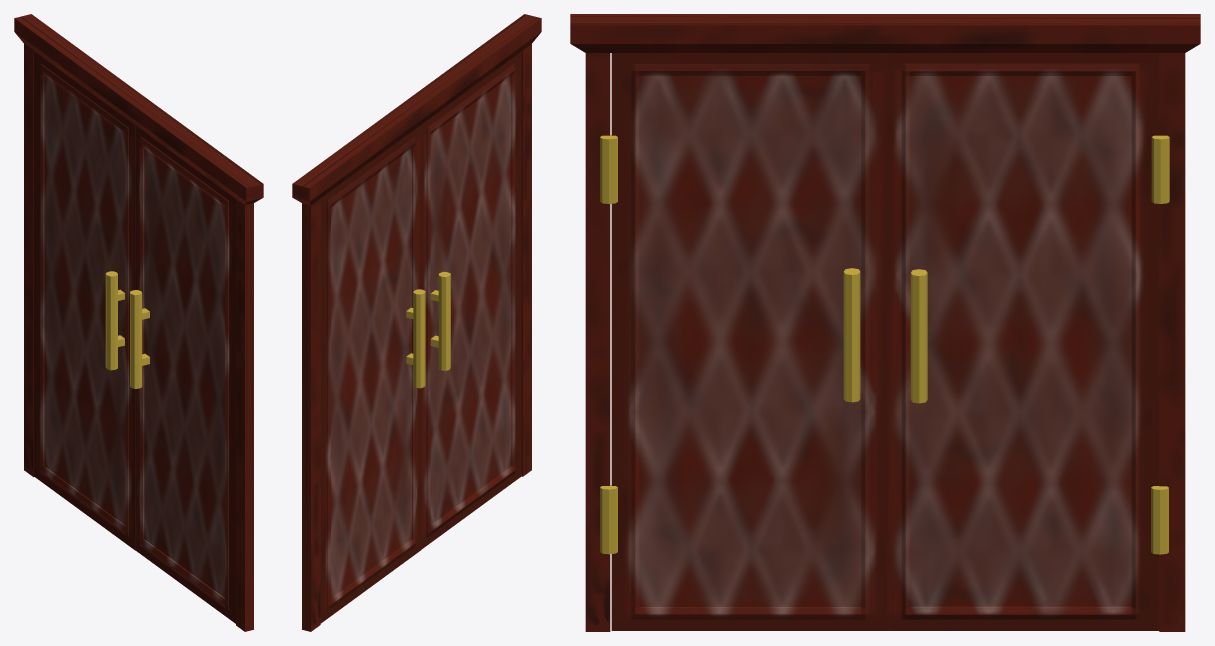
File: Door.fbx
3 renders of one model, left to right at view 1: azimuth 30°, elevation 25°; view 2: azimuth 150°, elevation 25°; view 3: azimuth 270°, elevation 25°, orthographic. The views are drawn at different scales.
Parts seen in each view (by area): view 1: LeftDoor.001, RightDoor.001, DoorFrame.001; view 2: RightDoor.001, LeftDoor.001, DoorFrame.001; view 3: LeftDoor.001, RightDoor.001, DoorFrame.001.
Boxes of the visible parts, x1,y1,x2,y2 form: LeftDoor.001: (130,126,235,623); RightDoor.001: (34,51,135,550); DoorFrame.001: (14,14,263,631); RightDoor.001: (320,125,425,623); LeftDoor.001: (421,51,521,549); DoorFrame.001: (292,14,541,631); LeftDoor.001: (611,53,886,630); RightDoor.001: (887,53,1159,630); DoorFrame.001: (570,14,1200,631).
Size of the model in its own units: 128 by 1316 by 1234.
7 materials, 7 textured.
